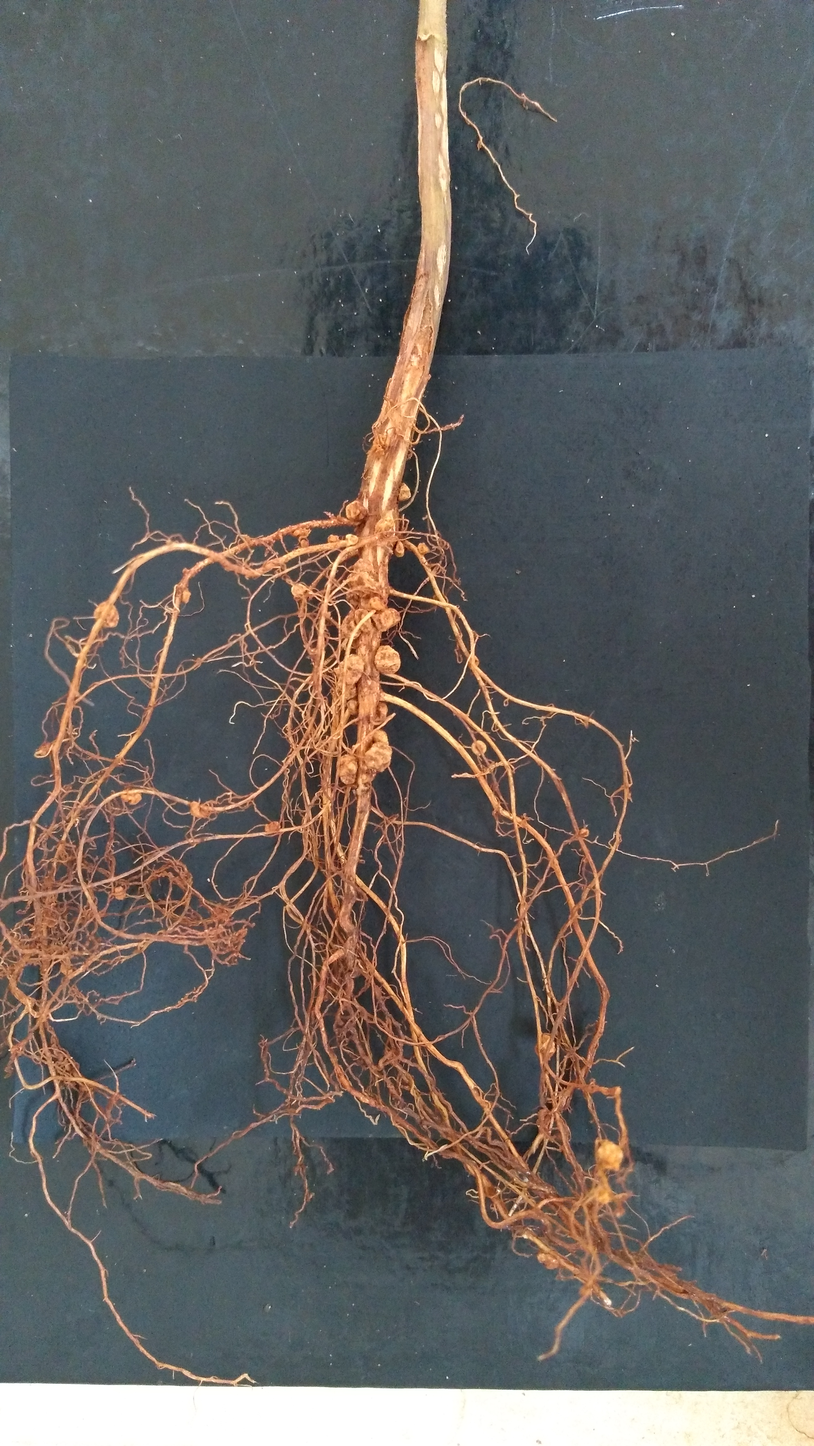nodule: (364, 729, 392, 772), (346, 585, 388, 610), (596, 1137, 625, 1171), (341, 609, 371, 639), (333, 666, 359, 700), (374, 645, 401, 674), (339, 654, 364, 685), (372, 608, 401, 631), (357, 762, 377, 795), (94, 601, 119, 627), (336, 754, 357, 784), (346, 571, 378, 590), (534, 1033, 556, 1060), (342, 934, 356, 971), (345, 500, 369, 521), (289, 527, 311, 548), (594, 1181, 614, 1204), (375, 518, 396, 539), (370, 701, 388, 725), (190, 800, 211, 818), (537, 1252, 559, 1269), (348, 958, 366, 978), (43, 907, 61, 927), (121, 788, 142, 805), (352, 558, 374, 574), (536, 1109, 552, 1130), (41, 886, 59, 904), (51, 1043, 69, 1060), (291, 583, 306, 602), (59, 956, 73, 976), (396, 483, 411, 501), (63, 1055, 79, 1071), (471, 740, 487, 755), (346, 697, 360, 714), (264, 820, 281, 834), (393, 538, 405, 557), (37, 742, 52, 756), (467, 655, 479, 670), (114, 885, 126, 900), (417, 542, 430, 555), (181, 588, 192, 603), (346, 534, 358, 546), (327, 534, 340, 544), (579, 828, 590, 838)
